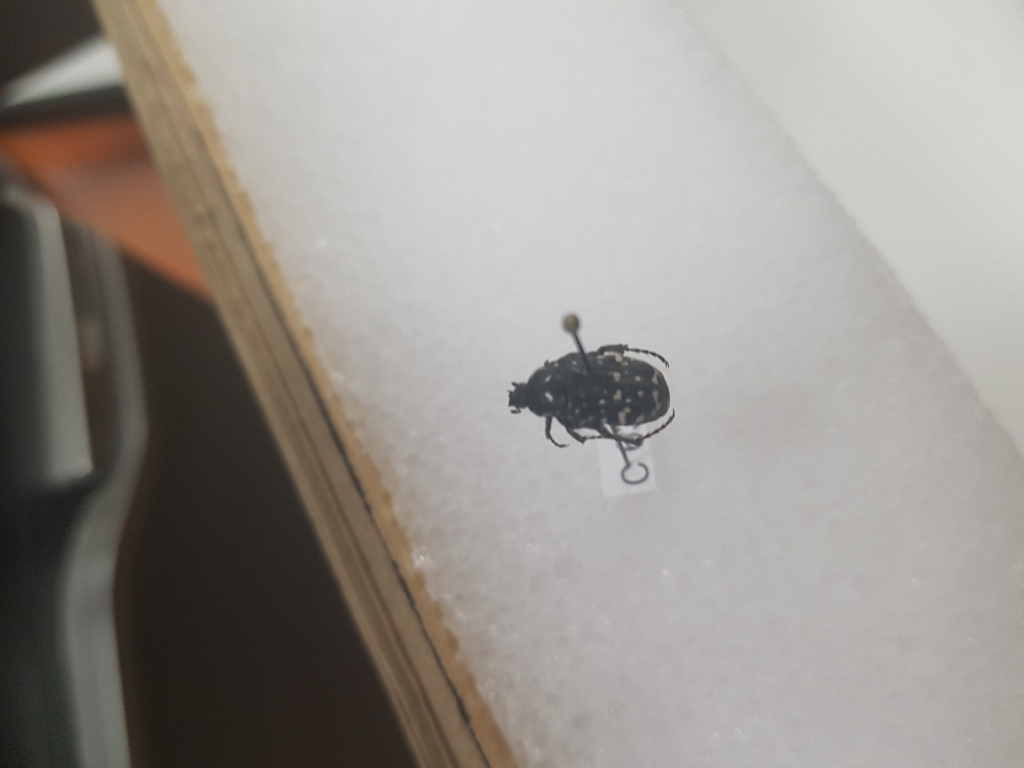Oxythyrea_albopicta: (502, 341, 685, 448)
